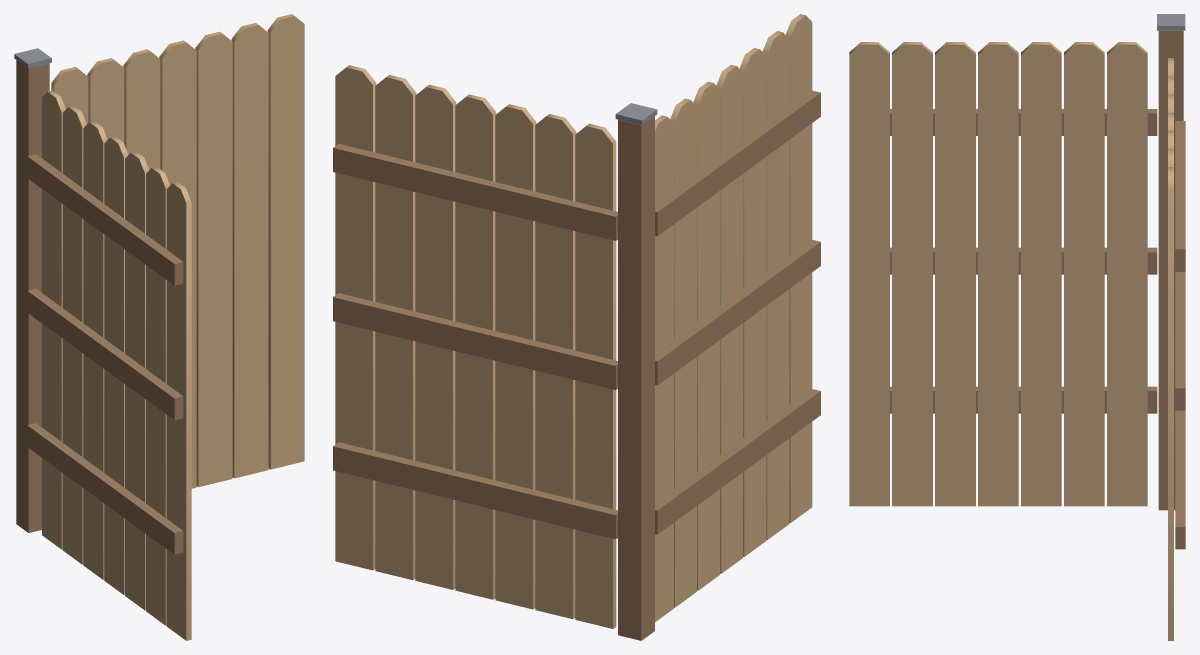
The model's file is WoodFence_Corner.fbx.
3 renders of one model, left to right at view 1: azimuth 30°, elevation 25°; view 2: azimuth 150°, elevation 25°; view 3: azimuth 270°, elevation 25°, orthographic. The views are drawn at different scales.
Parts seen in each view (by area): view 1: LOD0; view 2: LOD0; view 3: LOD0.
Boxes of the visible parts, x1,y1,x2,y2 form: LOD0: [14, 14, 304, 640]; LOD0: [333, 14, 820, 640]; LOD0: [849, 14, 1185, 640].
Size of what is drawn, in the model's own units: 121 by 192 by 121.
